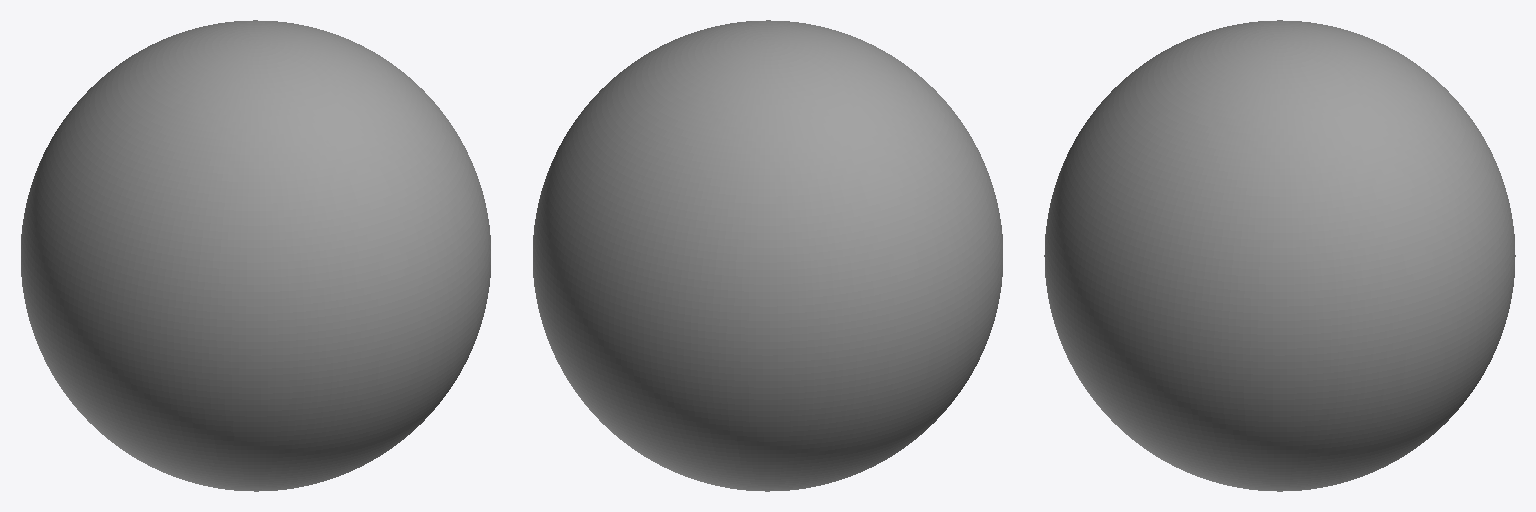
The model's file is bubble.obj.
The picture shows the model from 3 angles: view 1: azimuth 30°, elevation 25°; view 2: azimuth 150°, elevation 25°; view 3: azimuth 270°, elevation 25°; orthographic projection.
Parts seen in each view (by area): view 1: Sphere; view 2: Sphere; view 3: Sphere.
Boxes of the visible parts, x1=… form: Sphere: x1=21, y1=20, x2=490, y2=491; Sphere: x1=533, y1=20, x2=1002, y2=491; Sphere: x1=1044, y1=20, x2=1515, y2=491.
Size of the model in its own units: 2 by 2 by 2.